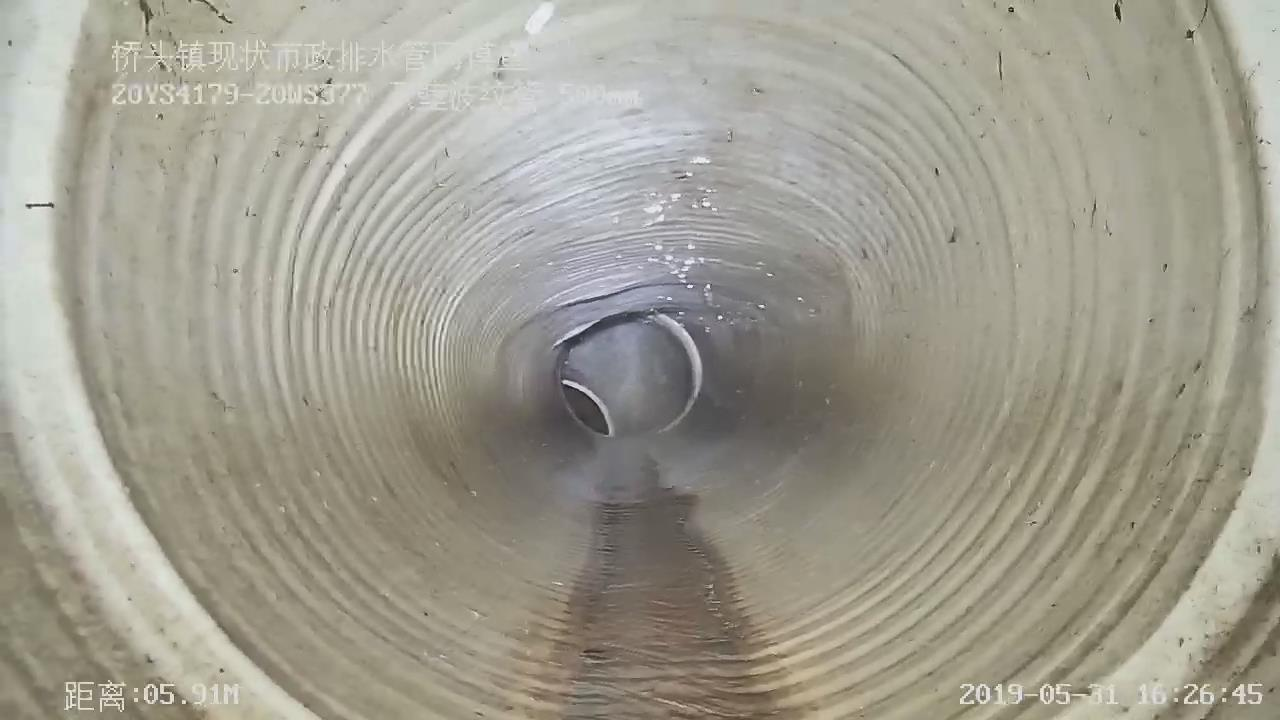BX: (542, 265, 728, 340)
